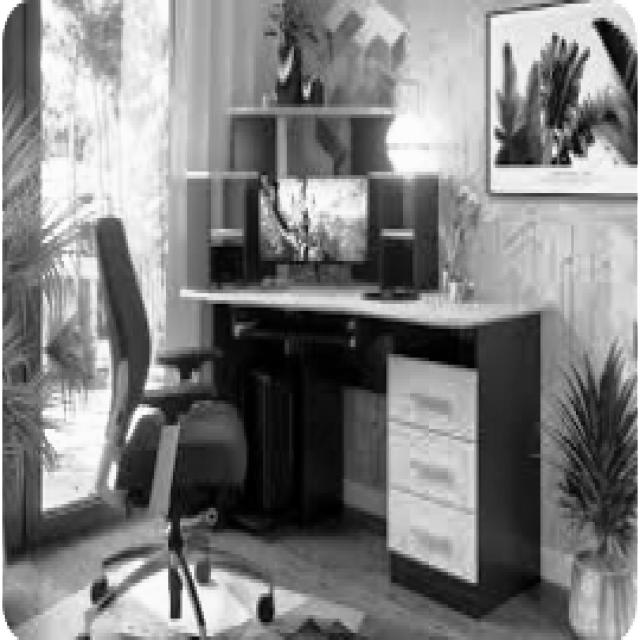book: (81, 214, 275, 636)
table: (178, 276, 543, 618)
